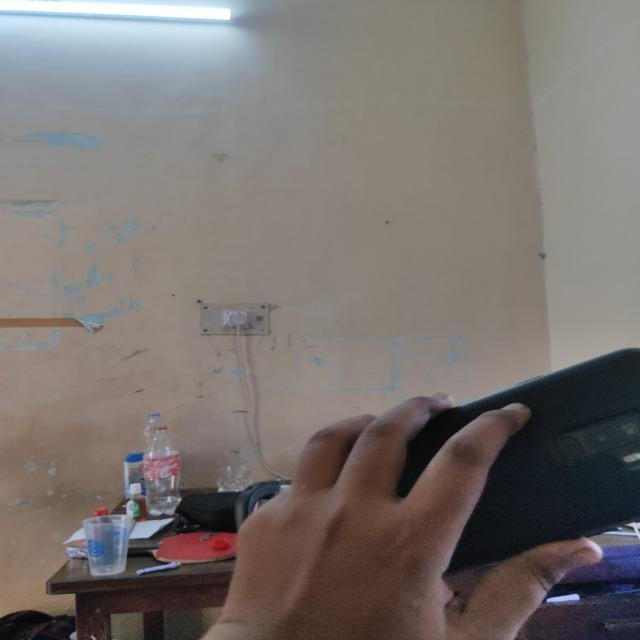Phone: (404, 337, 640, 568)
